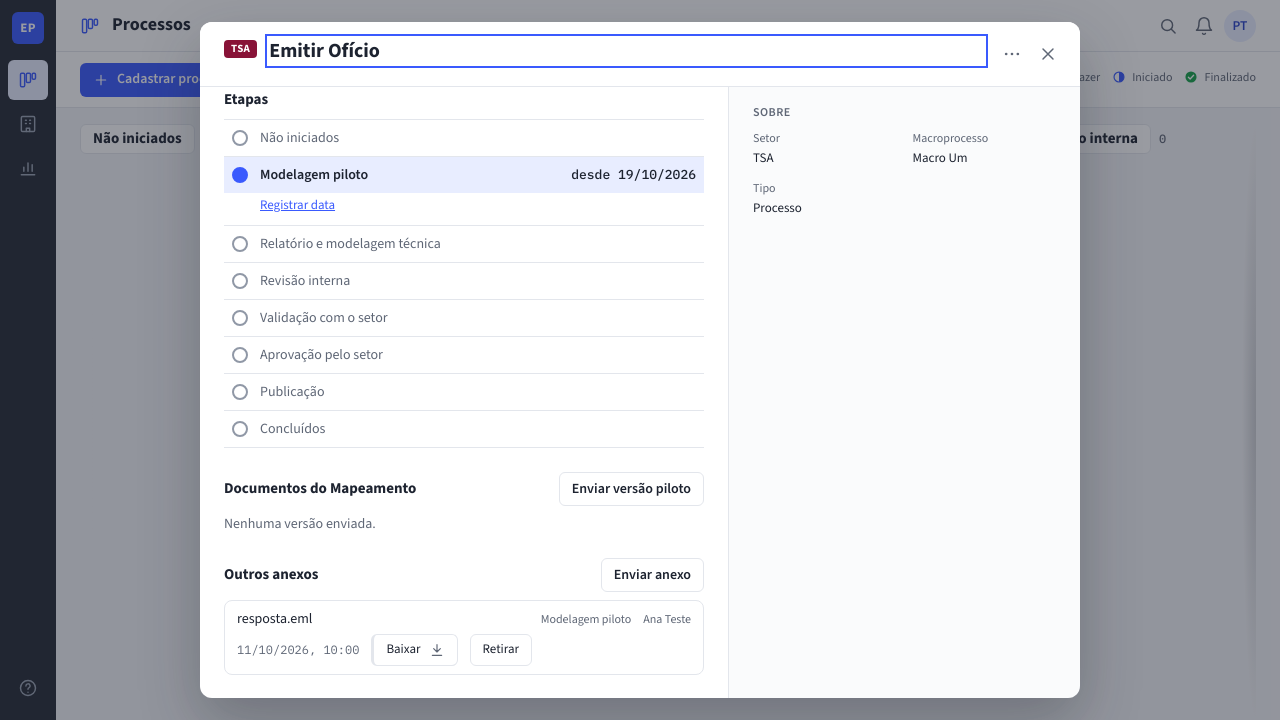
Scenario: se a retirada falha, o anexo continua na lista e a frase aparece em vermelho
(page scrolled)
Click the button with aria-label "Retirar resposta.eml": coordinates (501, 650) [470,634,532,666]
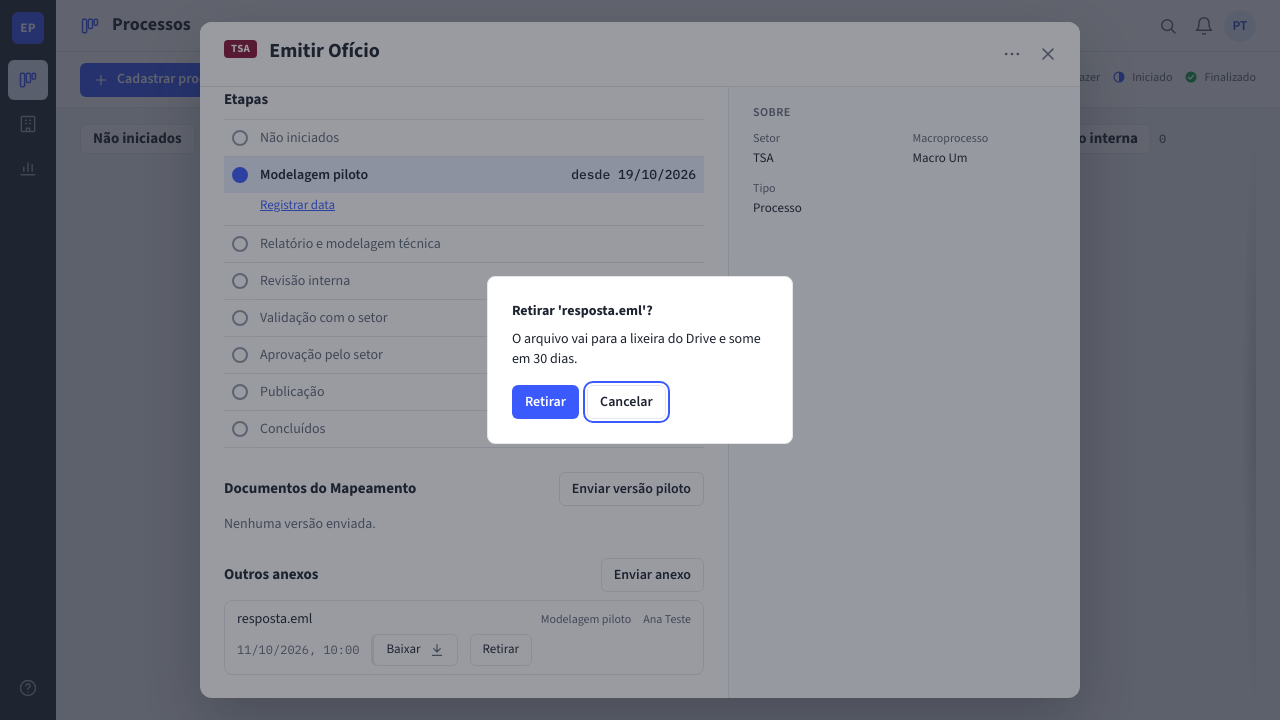
Click the button "Retirar": coordinates (545, 402) [512,385,579,419]
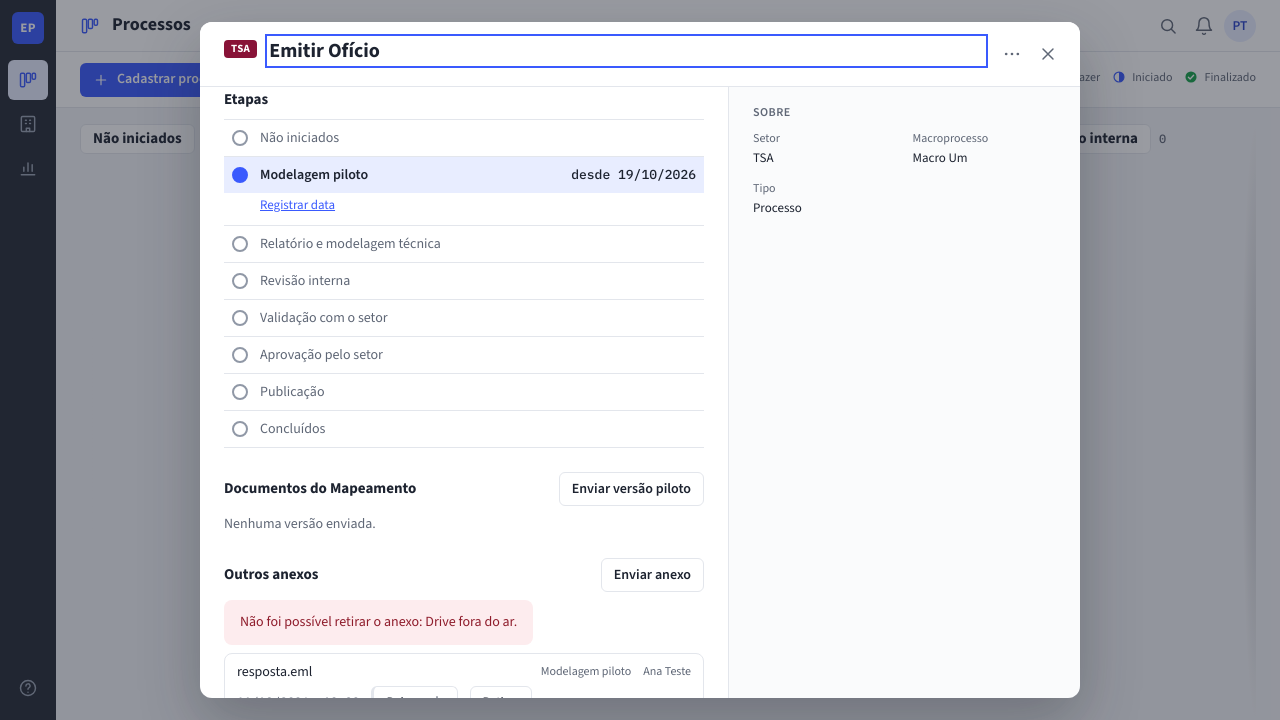
Expected: the text "resposta.eml" is shown, [237,662,312,682]
Expected: the message reads "Não foi possível retirar o anexo: Drive fora do ar.", [240,612,517,632]
